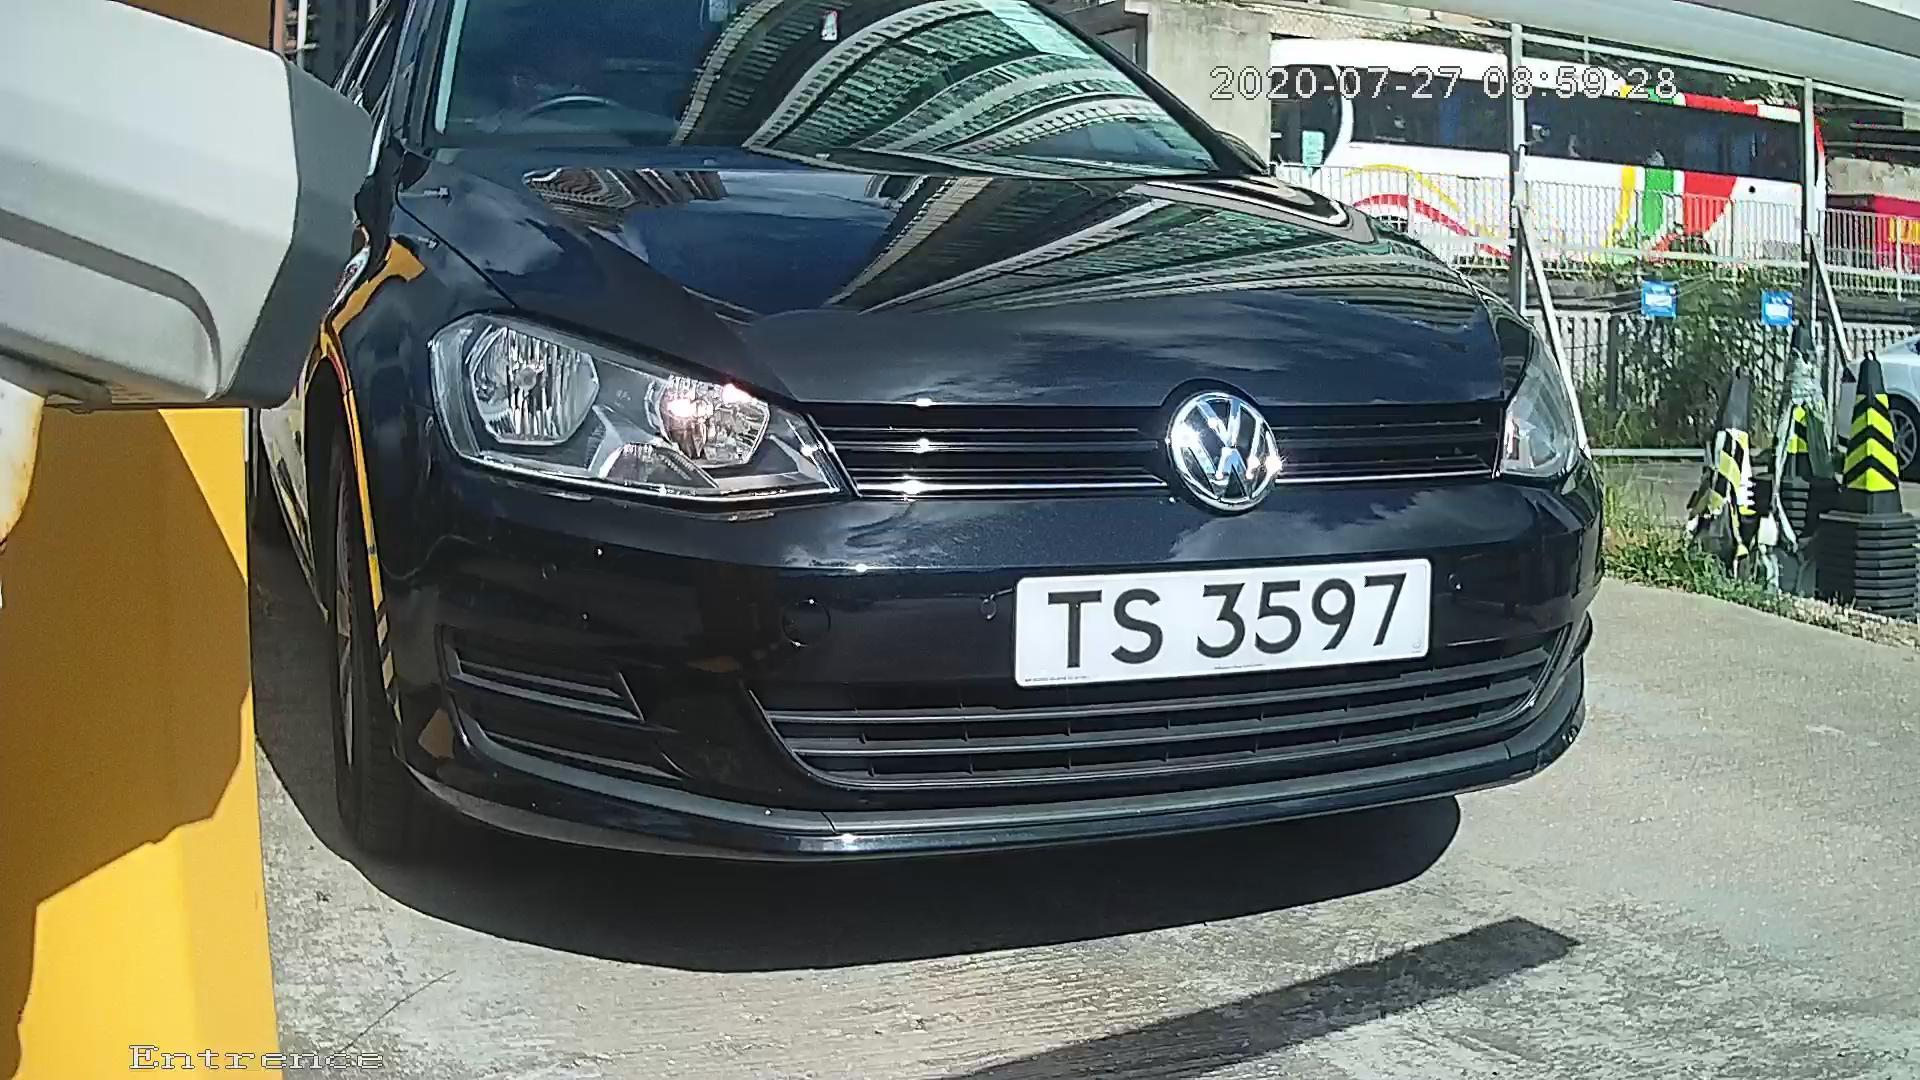License Plate: (1003, 550, 1432, 695)
